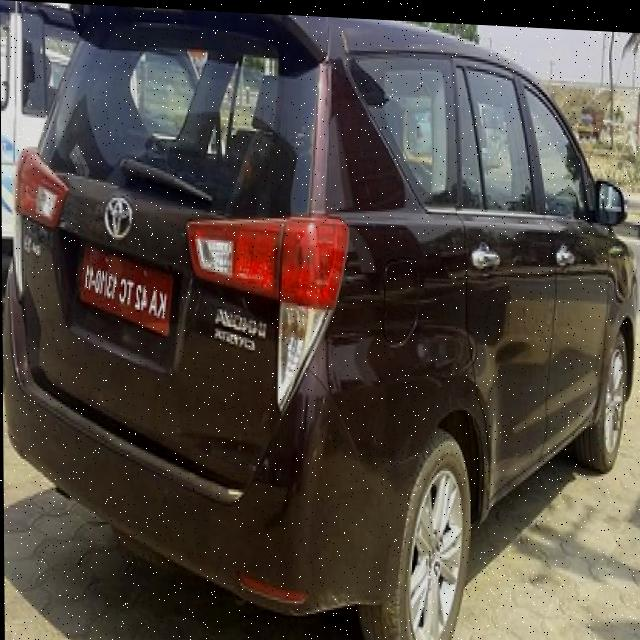plate: (75, 235, 180, 353)
